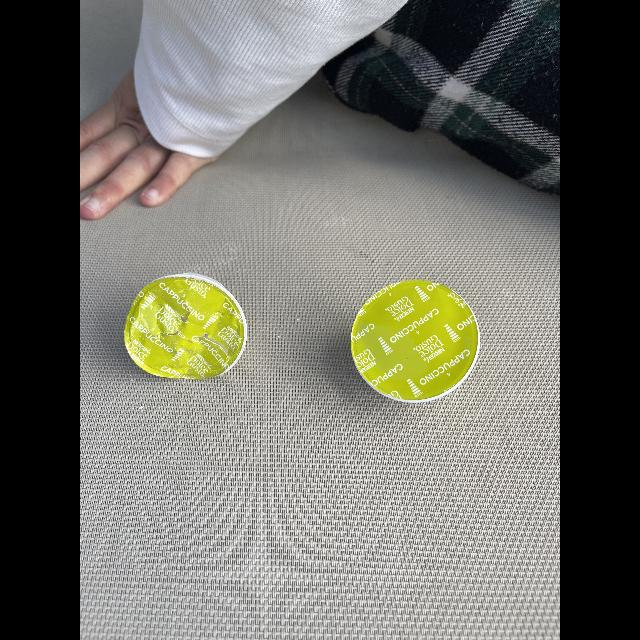damaged_capsule: (116, 270, 258, 388)
intact_capsule: (343, 269, 493, 413)
